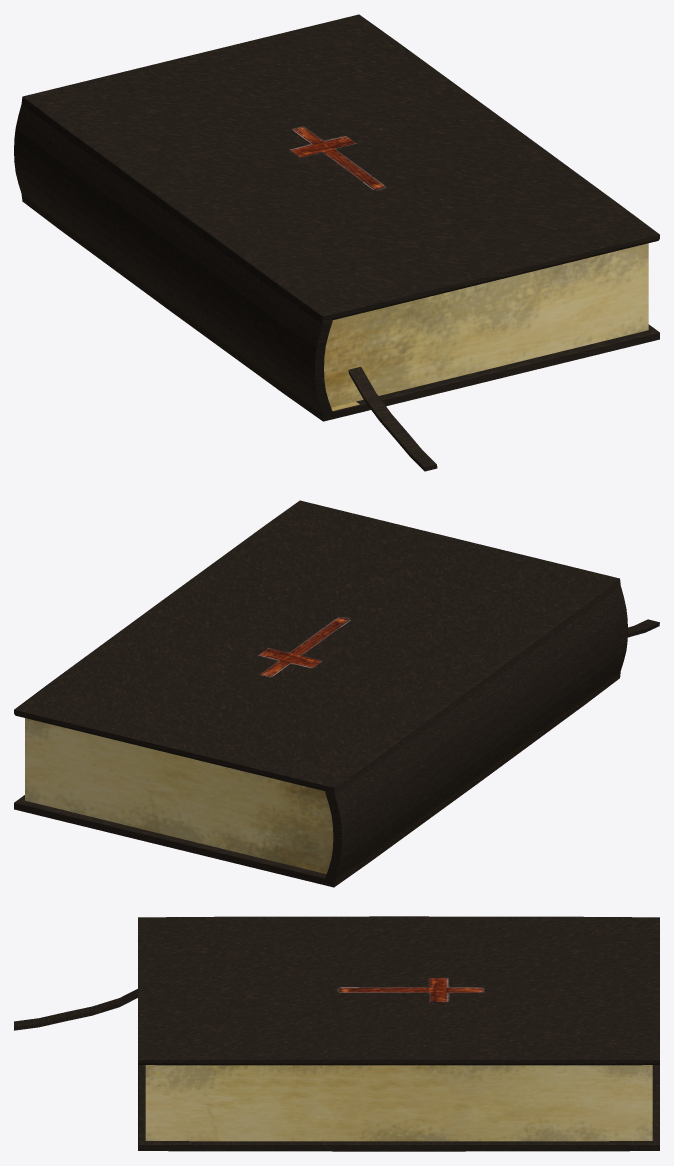
3 renders of one model, top to bottom at view 1: azimuth 30°, elevation 25°; view 2: azimuth 150°, elevation 25°; view 3: azimuth 270°, elevation 25°, orthographic. The views are drawn at different scales.
Visible parts, largest first — view 1: Cube; view 2: Cube; view 3: Cube.
Boxes of the visible parts, <box> form: Cube: <box>14,14,659,471</box>; Cube: <box>14,500,659,887</box>; Cube: <box>14,916,659,1151</box>.
Size of the model in its own units: 110 by 33.53 by 205.
Materials: 1 (1 with a texture image).
